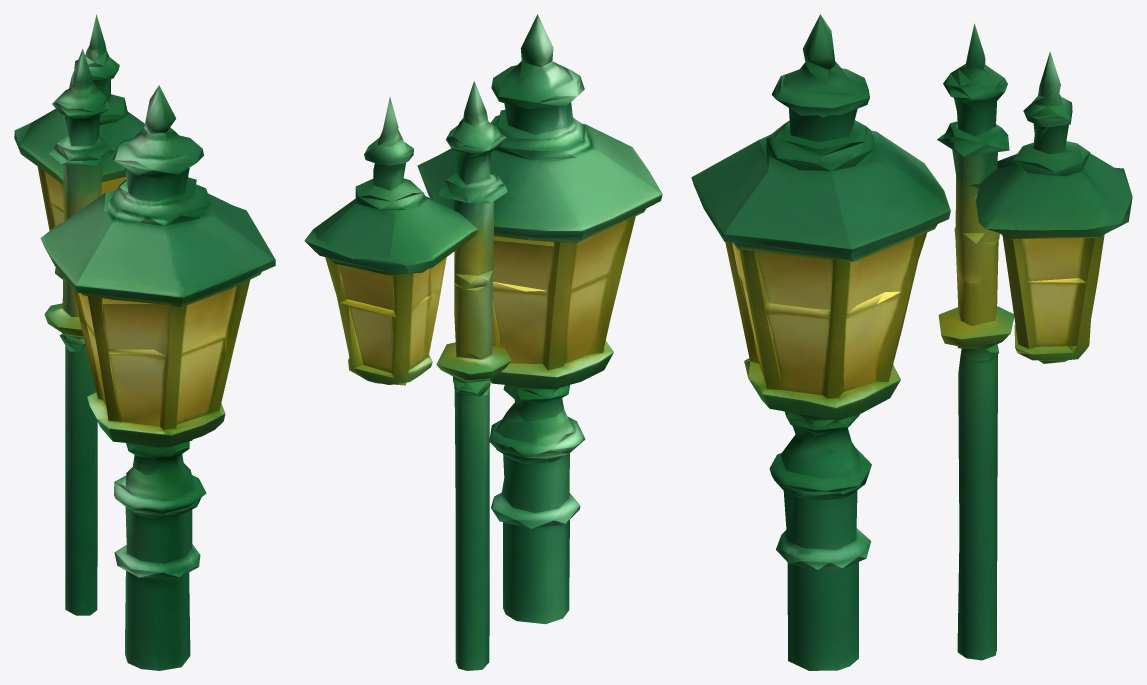
Rendered from streetLampNight.glb.
3 views of the same model, side by side, from view 1: azimuth 30°, elevation 25°; view 2: azimuth 150°, elevation 25°; view 3: azimuth 270°, elevation 25° (orthographic). The views are drawn at different scales.
Visible parts, largest first — view 1: model; view 2: model; view 3: model.
Part boxes in pixels (x1,y1,x2,y2): model: (14,14,275,670); model: (304,14,662,670); model: (691,14,1132,670).
Bounding box in the file's own units: 0.7062 × 1.9 × 1.18.
Materials: 1 (1 with a texture image).
